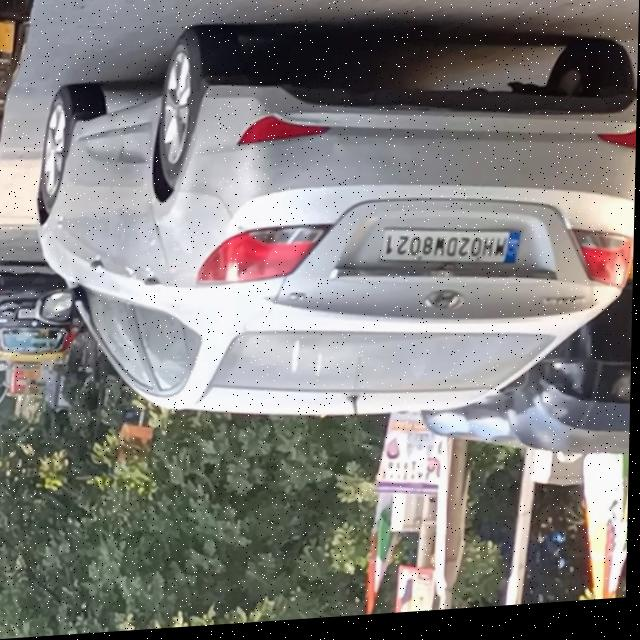plate: (372, 221, 539, 283)
